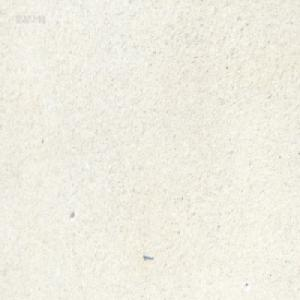Nail: (143, 252, 153, 260)
